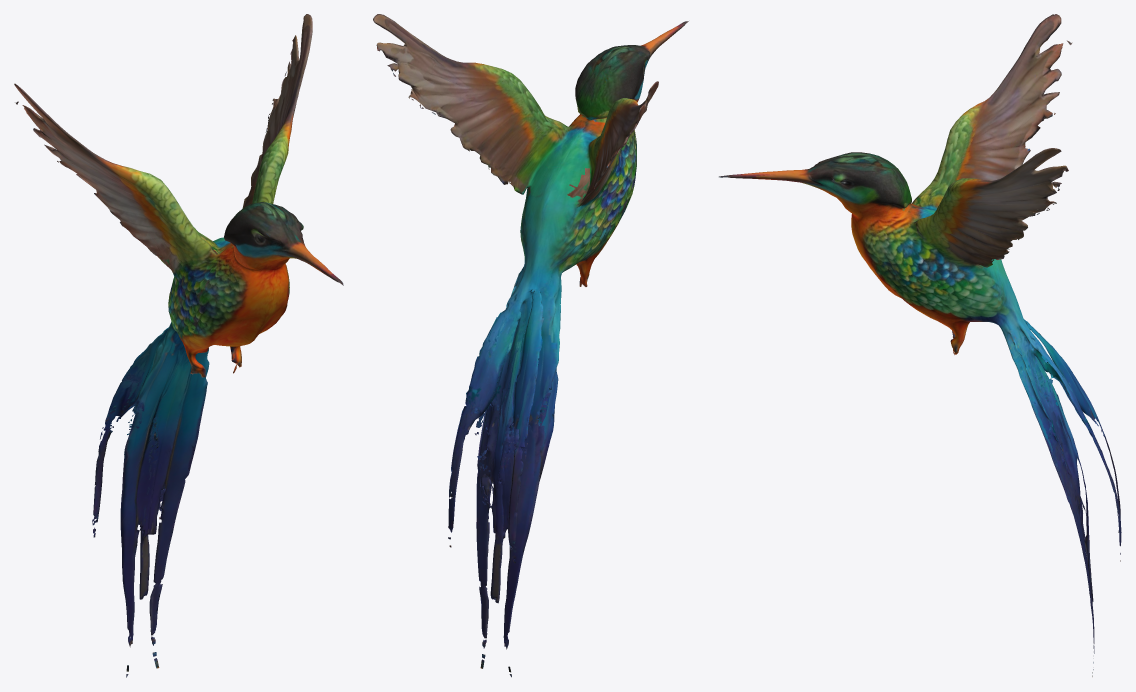
File: Common_kingfisher_Cu_0529080410_texture.fbx
3 views of the same model, side by side, from view 1: azimuth 30°, elevation 25°; view 2: azimuth 150°, elevation 25°; view 3: azimuth 270°, elevation 25° (orthographic). The views are drawn at different scales.
Visible parts, largest first — view 1: Mesh0; view 2: Mesh0; view 3: Mesh0.
Boxes of the visible parts, x1=… form: Mesh0: x1=14, y1=14, x2=343, y2=677; Mesh0: x1=373, y1=14, x2=688, y2=677; Mesh0: x1=719, y1=14, x2=1121, y2=676.
Size of the model in its own units: 23.97 by 50 by 30.84.
1 material, 1 textured.
